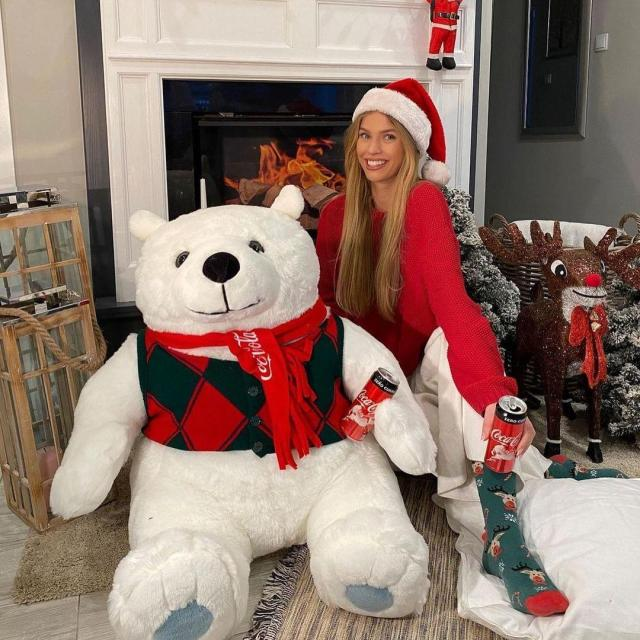coca-cola: (341, 361, 402, 447), (482, 396, 530, 476)
